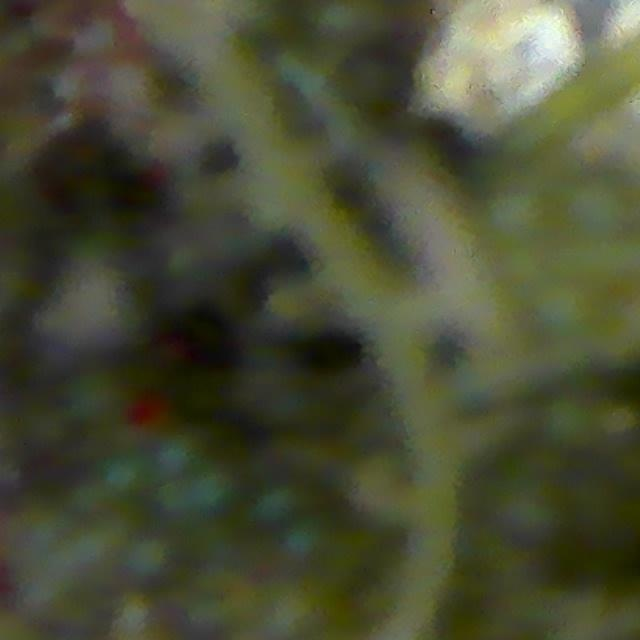SeaGrape: (564, 174, 634, 241), (63, 367, 131, 430), (166, 461, 236, 522), (149, 426, 204, 480), (122, 533, 173, 583)
